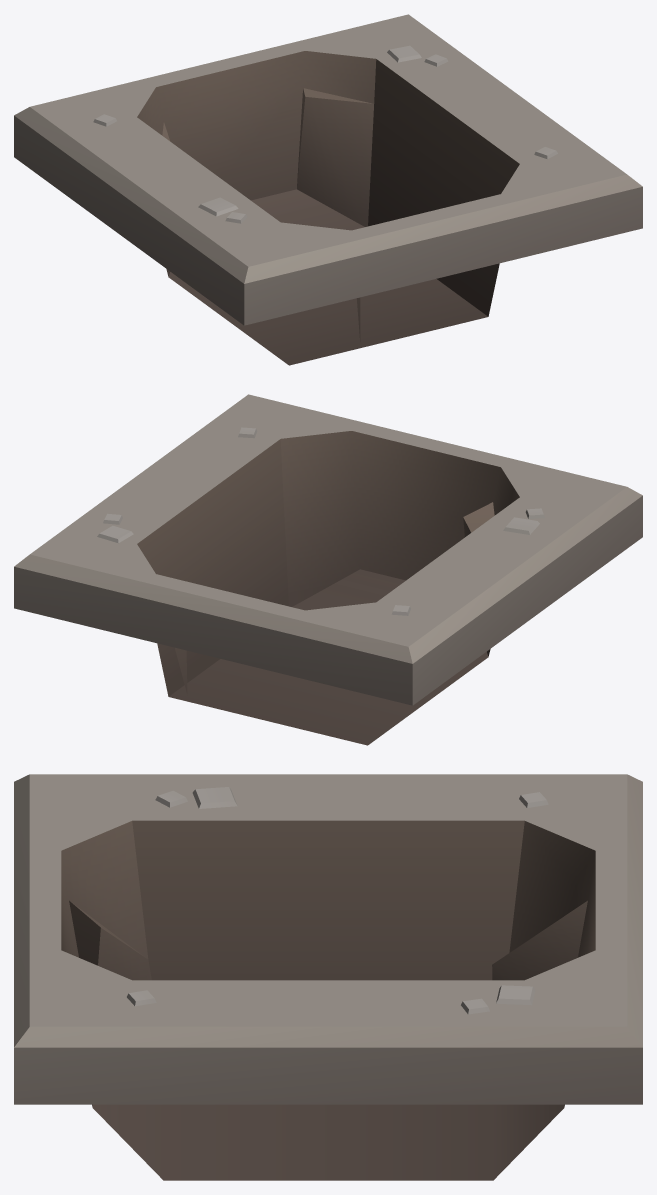
The model's file is Floor Dirt Grave.glb.
The picture shows the model from 3 angles, top to bottom: view 1: azimuth 30°, elevation 25°; view 2: azimuth 150°, elevation 25°; view 3: azimuth 270°, elevation 25°; orthographic projection. The views are drawn at different scales.
Parts seen in each view (by area): view 1: floor_dirt_grave; view 2: floor_dirt_grave; view 3: floor_dirt_grave.
Part boxes in pixels (x1=…): floor_dirt_grave: x1=14, y1=14, x2=642, y2=365; floor_dirt_grave: x1=14, y1=394, x2=642, y2=745; floor_dirt_grave: x1=14, y1=774, x2=642, y2=1180.
Bounding box in the file's own units: 4 × 1.53 × 4.
1 material, 1 textured.
